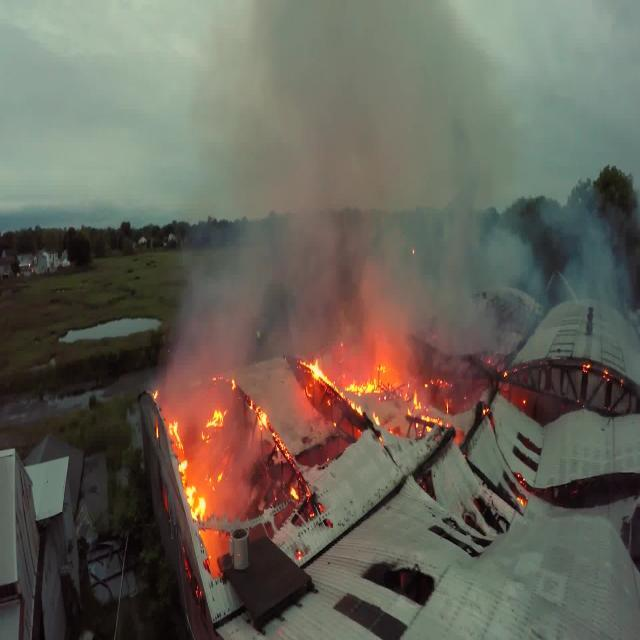Fire: (166, 426, 202, 528), (307, 361, 330, 396), (344, 383, 382, 403)
Smoke: (249, 15, 472, 320)
